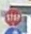stop: (3, 7, 22, 26)
